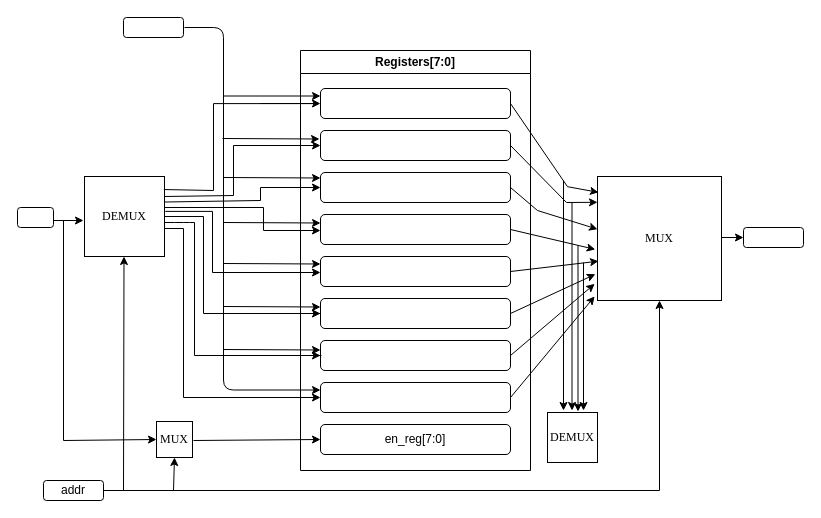
Image size: 821x518. Some labels were removed from this diagram. Each missing label, with the centre of its shape:
"rdata" goes at point 773,237.
"w_en" goes at point 35,217.
"wdata" goes at point 153,27.
